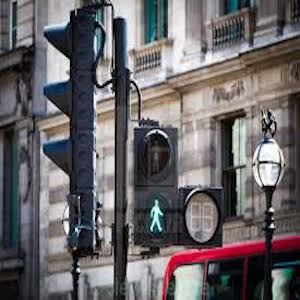green: (147, 201, 168, 234)
